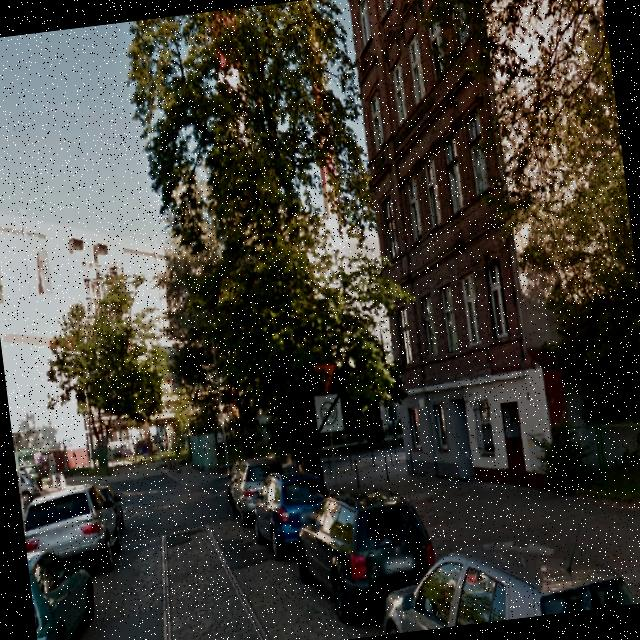Ustap pierwszenstwa: (311, 360, 339, 394)
